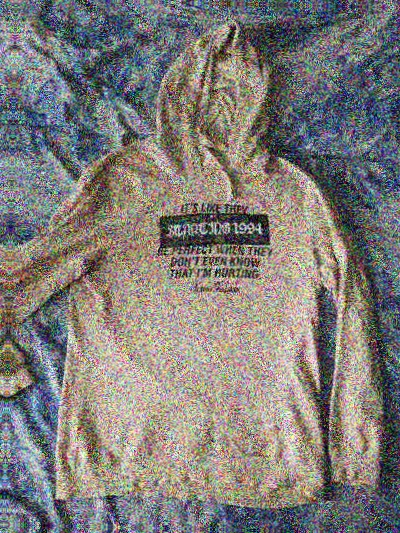Hoodie: (6, 25, 400, 527), (0, 16, 12, 517), (0, 524, 1, 533), (0, 533, 396, 533)
